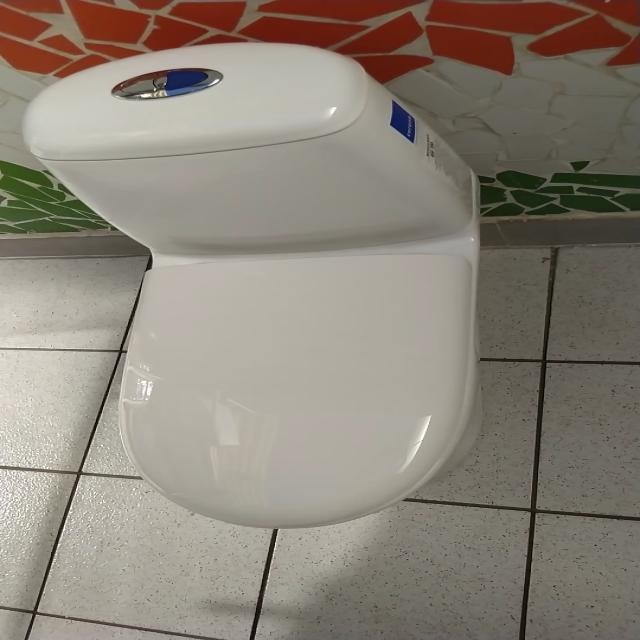toilet: (21, 41, 483, 529)
